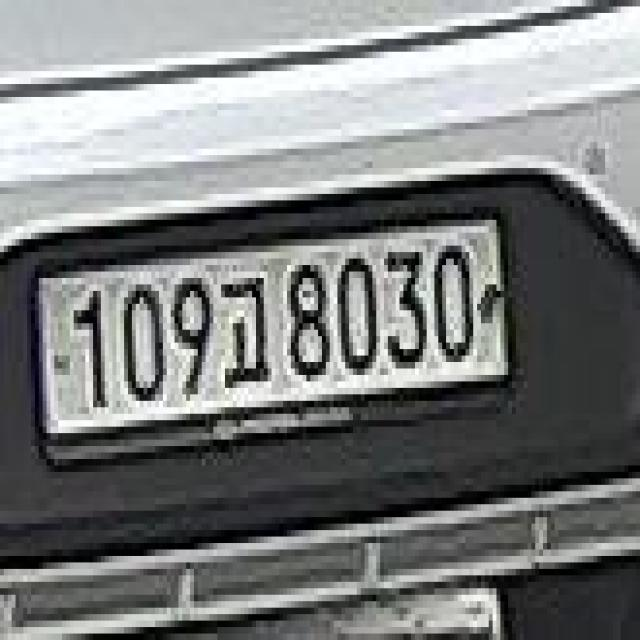illegal_plate: (32, 201, 512, 458)
